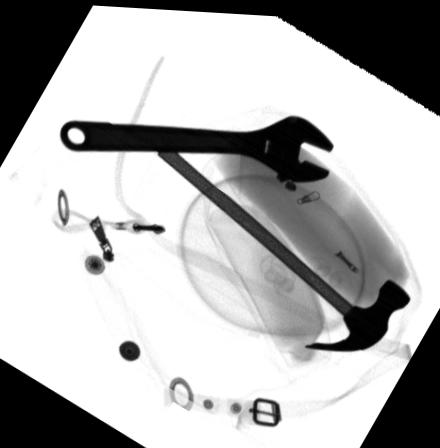Hammer: (157, 141, 411, 347)
Wrench: (59, 111, 335, 179)
